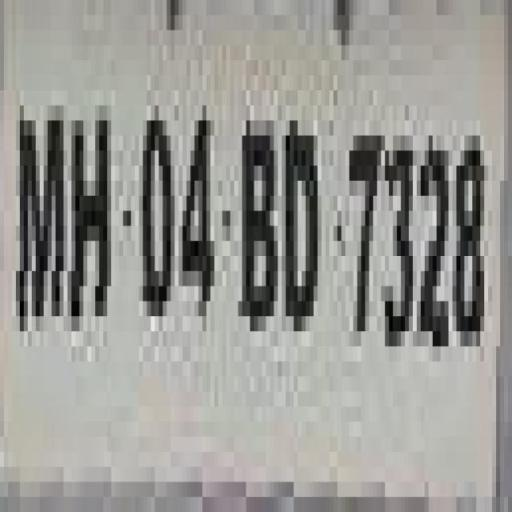number plate: (0, 0, 484, 482)
